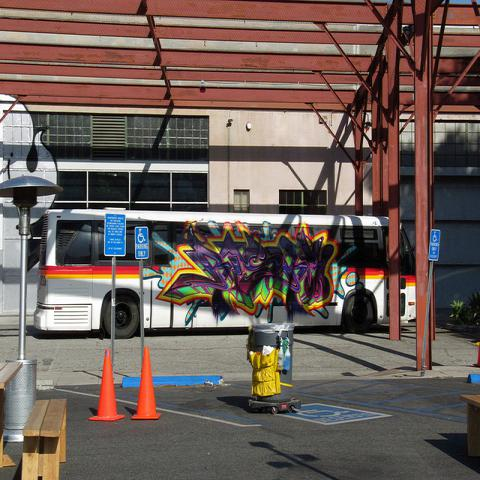bus: (32, 210, 416, 342)
